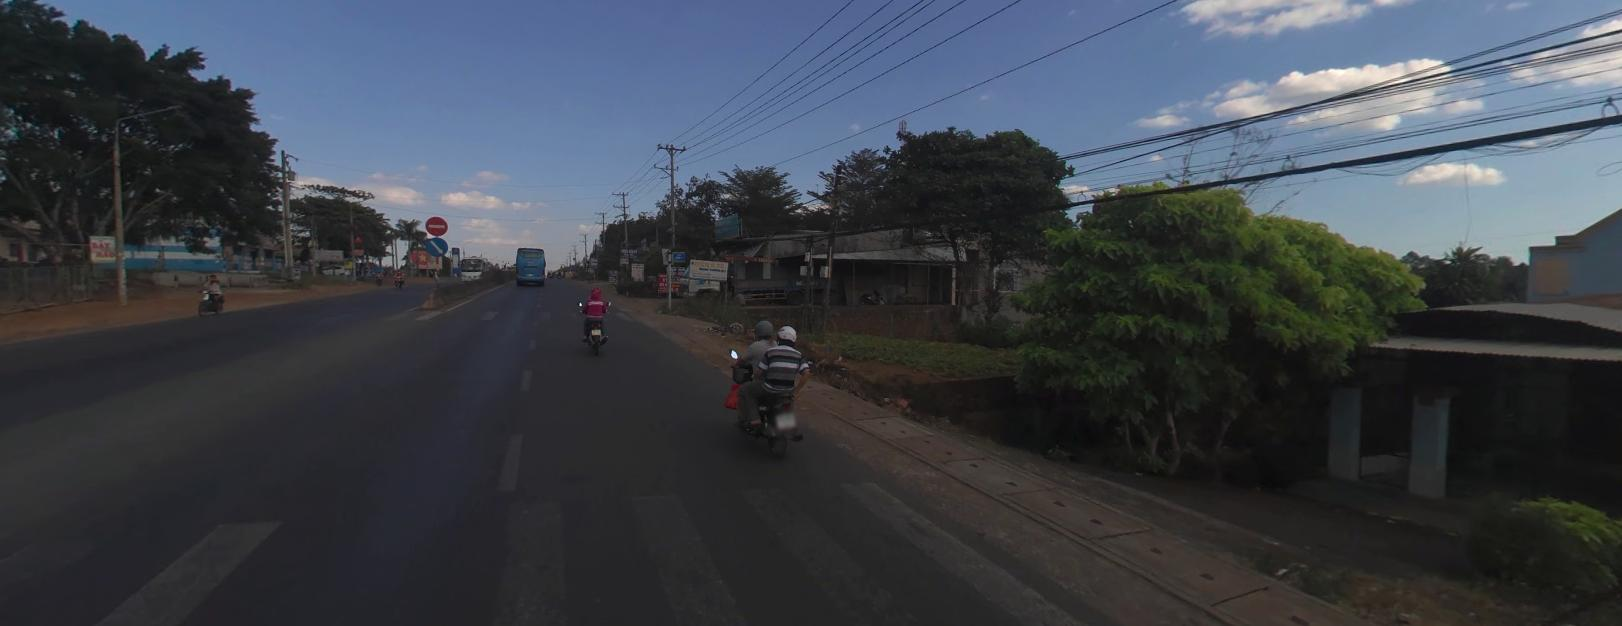Cam nguoc chieu: (425, 214, 448, 235)
Hieu lenh: (424, 235, 448, 254)
